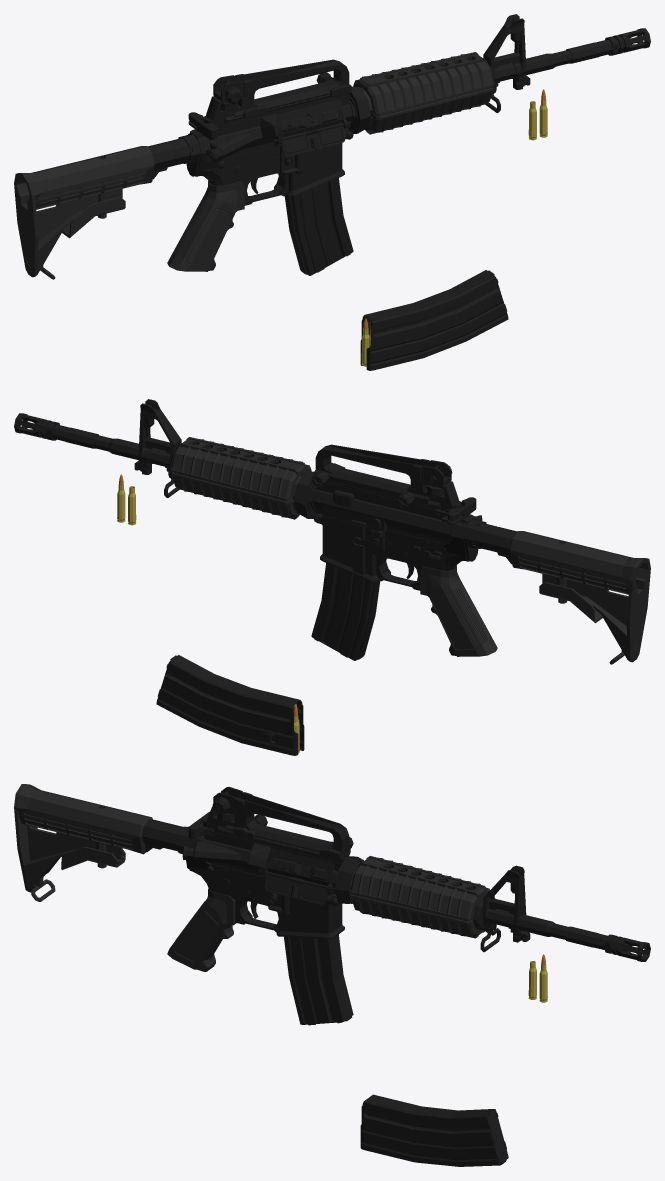
The picture shows the model from 3 angles, top to bottom: view 1: azimuth 30°, elevation 25°; view 2: azimuth 150°, elevation 25°; view 3: azimuth 330°, elevation 25°; orthographic projection.
Visible parts, largest first — view 1: m4a1 stock_2, ar15 30rnd mag (steel)_15, m4a1 handguard_6, m4a1 lower_5, m4a1 carry handle_11, ar15 30rnd mag empty (steel)_14, m4a1 14.5in barrel_18, m4a1 upper_0, m4a1 grip_7, m4a1 dust cover_9, m4a1 flash hider_8, m4a1 bolt_13; view 2: m4a1 stock_2, ar15 30rnd mag (steel)_15, m4a1 lower_5, m4a1 handguard_6, m4a1 carry handle_11, m4a1 upper_0, ar15 30rnd mag empty (steel)_14, m4a1 14.5in barrel_18, m4a1 grip_7, m4a1 flash hider_8, m4a1 charging handle_10; view 3: m4a1 stock_2, ar15 30rnd mag (steel)_15, m4a1 handguard_6, m4a1 lower_5, m4a1 carry handle_11, ar15 30rnd mag empty (steel)_14, m4a1 14.5in barrel_18, m4a1 upper_0, m4a1 grip_7, m4a1 dust cover_9, m4a1 flash hider_8, m4a1 bolt_13.
Part boxes in pixels (x1,y1,x2,y2): m4a1 stock_2: (14,146,154,279); ar15 30rnd mag (steel)_15: (360,270,508,370); m4a1 handguard_6: (353,52,493,134); m4a1 lower_5: (101,128,353,205); m4a1 carry handle_11: (206,59,351,120); ar15 30rnd mag empty (steel)_14: (284,178,353,275); m4a1 14.5in barrel_18: (348,14,612,133); m4a1 upper_0: (203,93,352,163); m4a1 grip_7: (167,180,244,271); m4a1 dust cover_9: (273,121,351,156); m4a1 flash hider_8: (605,28,650,55); m4a1 bolt_13: (281,109,339,132); m4a1 stock_2: (510,531,650,664); ar15 30rnd mag (steel)_15: (156,655,304,755); m4a1 lower_5: (313,513,563,590); m4a1 handguard_6: (171,437,311,519); m4a1 carry handle_11: (311,444,458,508); m4a1 upper_0: (312,481,482,543); ar15 30rnd mag empty (steel)_14: (311,563,380,660); m4a1 14.5in barrel_18: (52,399,316,518); m4a1 grip_7: (420,565,497,656); m4a1 flash hider_8: (14,413,59,440); m4a1 charging handle_10: (435,497,476,524); m4a1 stock_2: (14,784,152,901); ar15 30rnd mag (steel)_15: (360,1094,508,1166); m4a1 handguard_6: (350,856,489,938); m4a1 lower_5: (99,807,344,939); m4a1 carry handle_11: (206,786,353,860); ar15 30rnd mag empty (steel)_14: (284,934,353,1025); m4a1 14.5in barrel_18: (334,856,607,952); m4a1 upper_0: (182,817,350,894); m4a1 grip_7: (167,888,236,971); m4a1 dust cover_9: (259,870,334,904); m4a1 flash hider_8: (605,934,650,961); m4a1 bolt_13: (269,857,328,880).
Size of the model in its own units: 8.03 by 3.98 by 0.6954.
